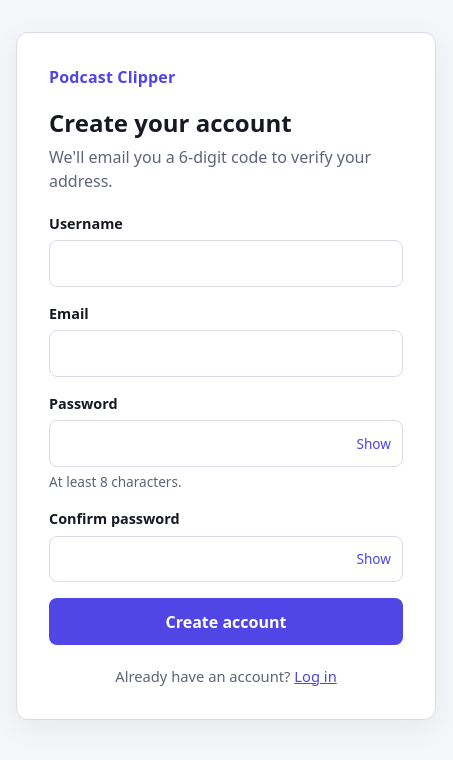
it: registration › validates on the client and sends no request when the form is invalid
This screenshot has width=453, height=760.
Expected: the heading "Create your account" is shown, [49,106,292,139]
Click the button "Create account".
click(226, 622)  # box [49,598,403,645]
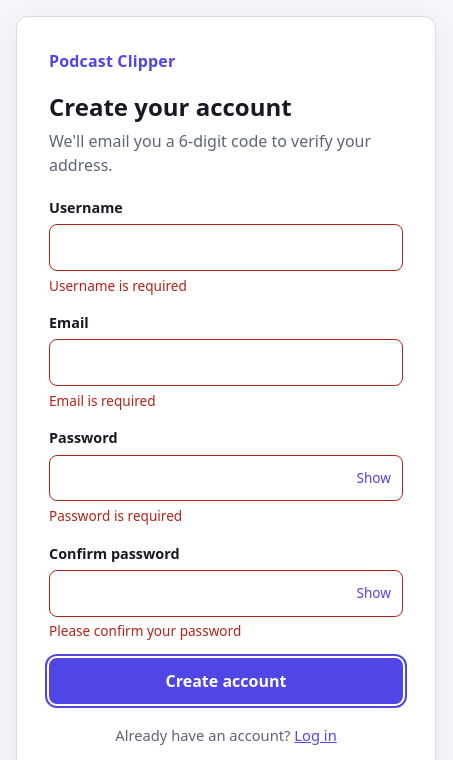
Result: the text "Username is required" is shown at [49,276,187,295]
Result: the text "Email is required" is shown at [49,391,156,410]
Type "Muneeb" into the field labelled "Username".
click(226, 248); type("Muneeb")  # box [49,224,403,271]
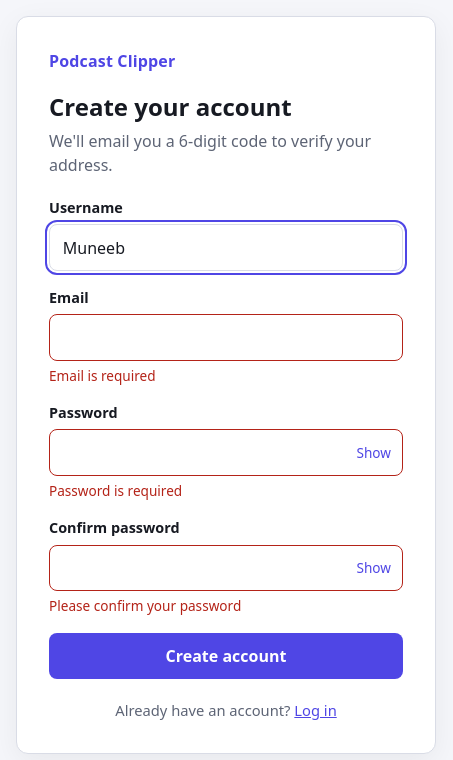
Type "muneeb@example.org" into the field labelled "Email".
click(226, 338); type("muneeb@example.org")  # box [49,314,403,361]
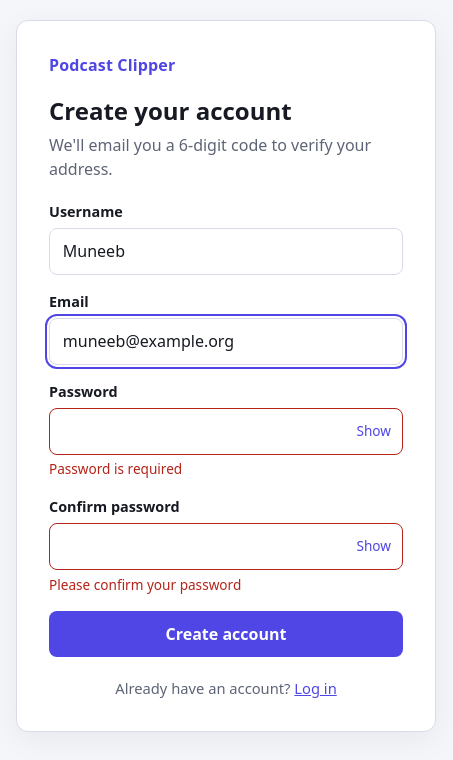
Type "short" into the password field labelled "Password".
click(226, 431); type("short")  # box [49,408,403,455]
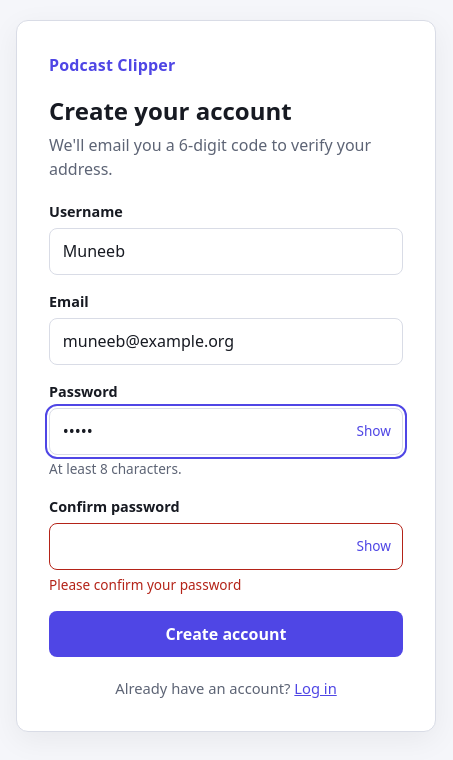
Type "different" into the password field labelled "Confirm password".
click(226, 546); type("different")  # box [49,523,403,570]
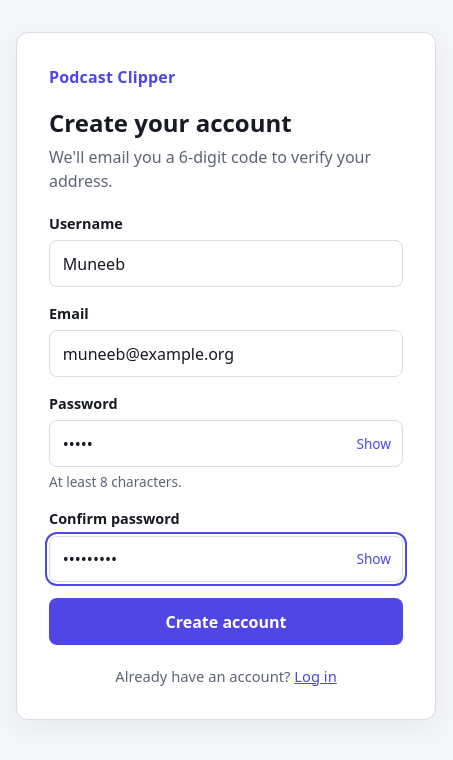
Click the button "Create account".
click(226, 622)  # box [49,598,403,645]
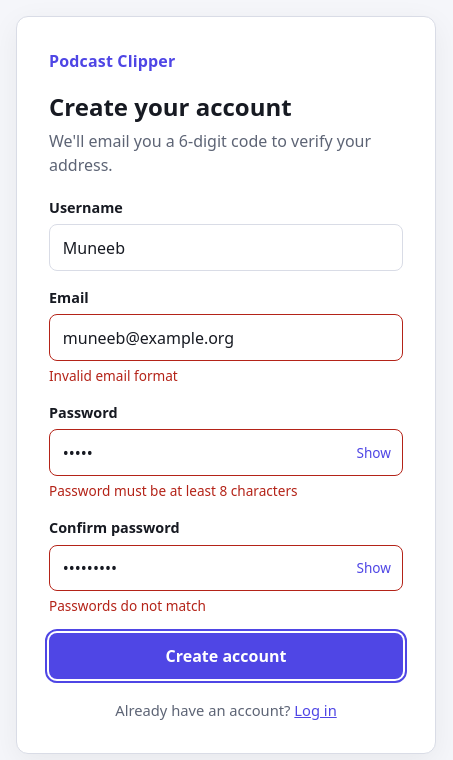
Result: the text "Invalid email format" is shown at [49,366,178,385]
Result: the text "Password must be at least 8 characters" is shown at [49,481,298,500]
Result: the text "Passwords do not match" is shown at [49,596,206,615]
